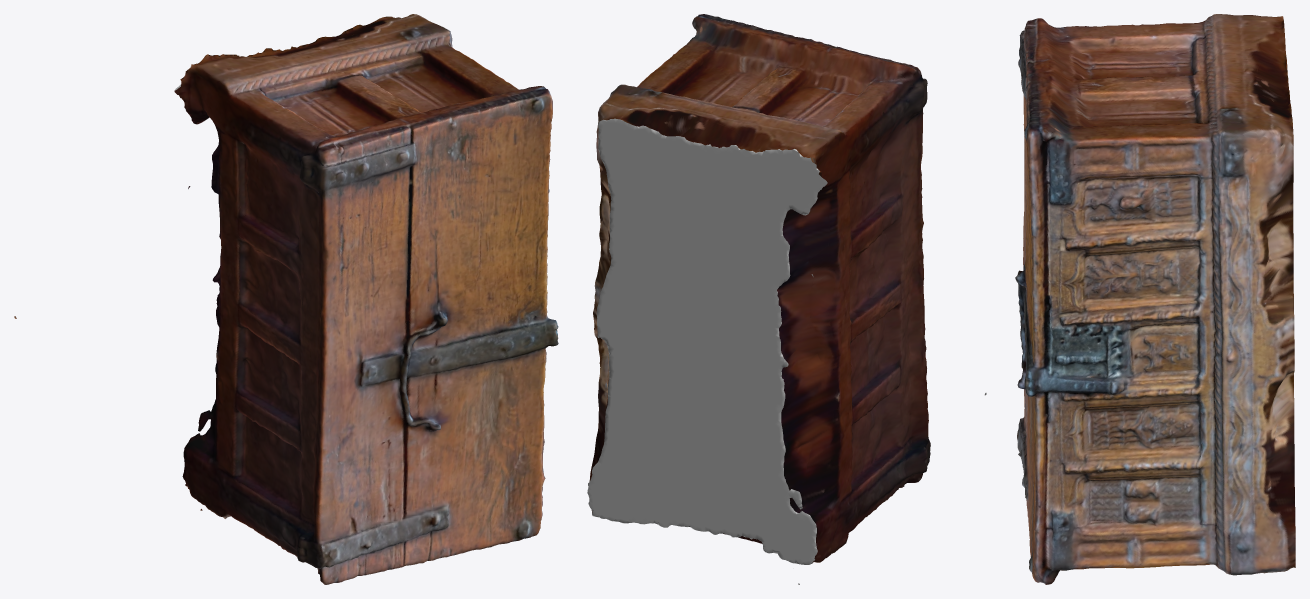
File: coffre.obj
3 renders of one model, left to right at view 1: azimuth 30°, elevation 25°; view 2: azimuth 150°, elevation 25°; view 3: azimuth 270°, elevation 25°, orthographic. The views are drawn at different scales.
Visible parts, largest first — view 1: mmGroup0; view 2: mmGroup0, mmGroup12; view 3: mmGroup0.
Part boxes in pixels (<box>): mmGroup0: <box>14,14,558,584</box>; mmGroup0: <box>589,14,930,562</box>; mmGroup12: <box>587,118,827,564</box>; mmGroup0: <box>1015,14,1295,584</box>.
Bounding box in the file's own units: 0.7797 × 0.7994 × 0.4314.
